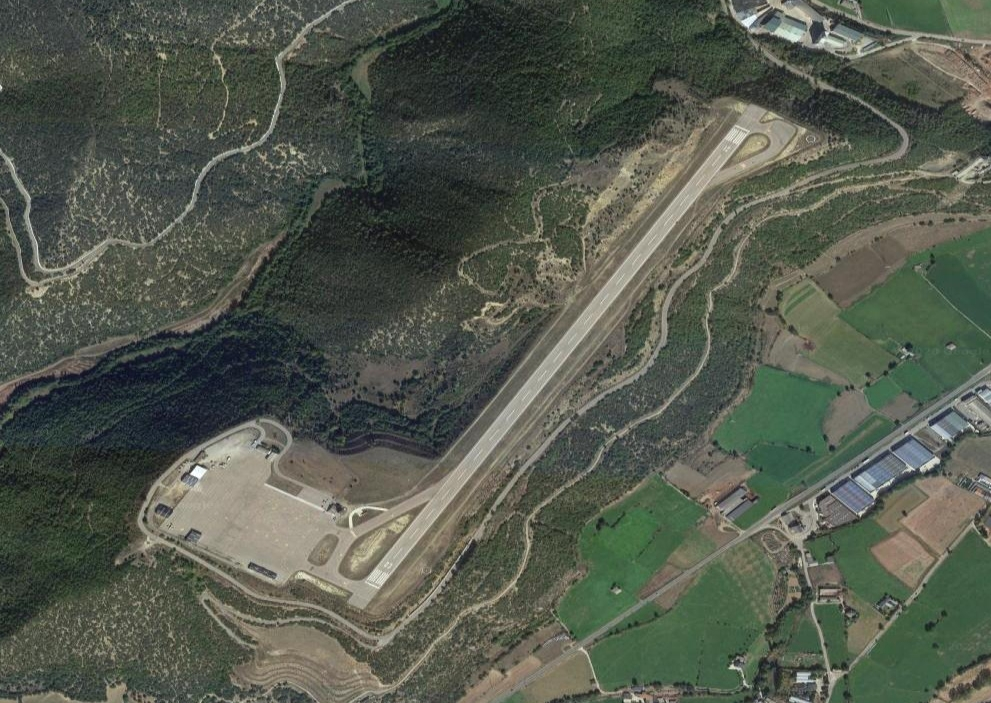airport: (138, 102, 799, 611)
